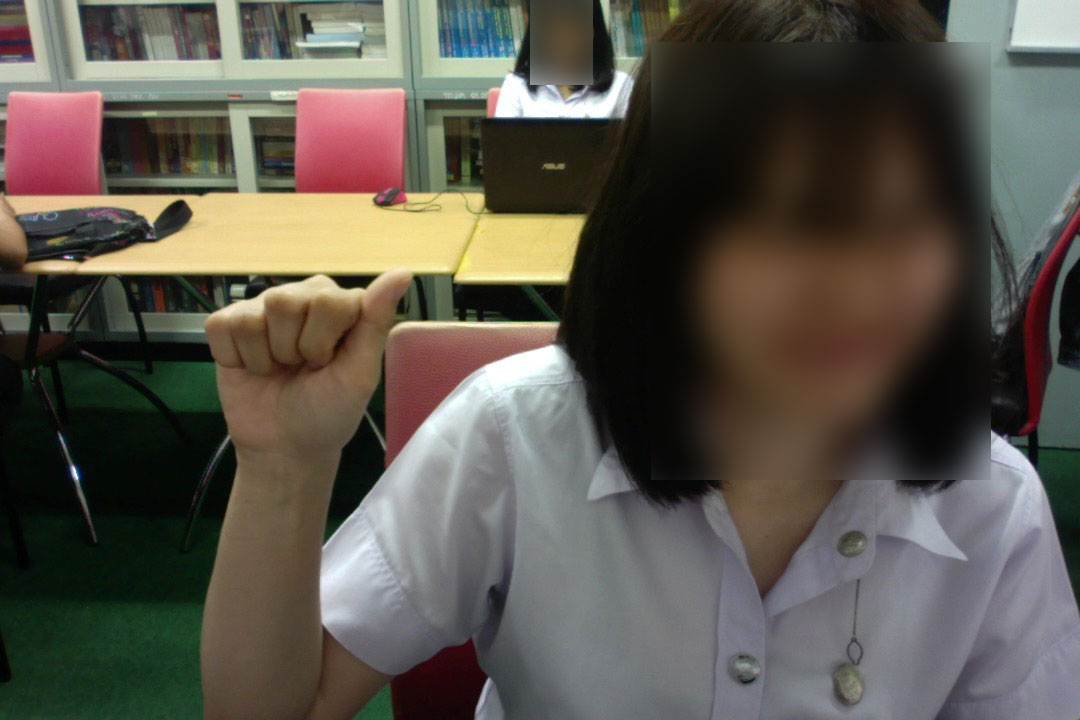or: (197, 257, 429, 466)
